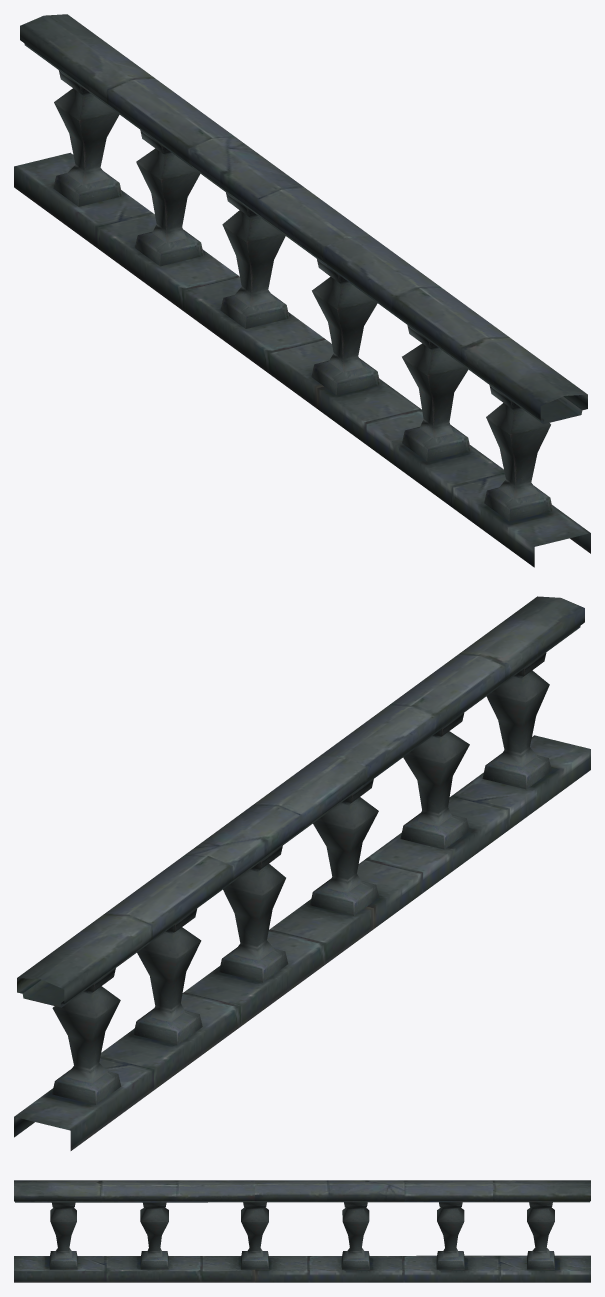
File: bridge_A1.fbx
3 renders of one model, top to bottom at view 1: azimuth 30°, elevation 25°; view 2: azimuth 150°, elevation 25°; view 3: azimuth 270°, elevation 25°, orthographic. The views are drawn at different scales.
Visible parts, largest first — view 1: bridge_A1; view 2: bridge_A1; view 3: bridge_A1.
Boxes of the visible parts, left/top/right/bottom form: bridge_A1: left=14, top=14, right=590, bottom=567; bridge_A1: left=14, top=596, right=590, bottom=1150; bridge_A1: left=14, top=1180, right=590, bottom=1282.
Size of the model in its own units: 0.8285 by 2.28 by 13.07.
